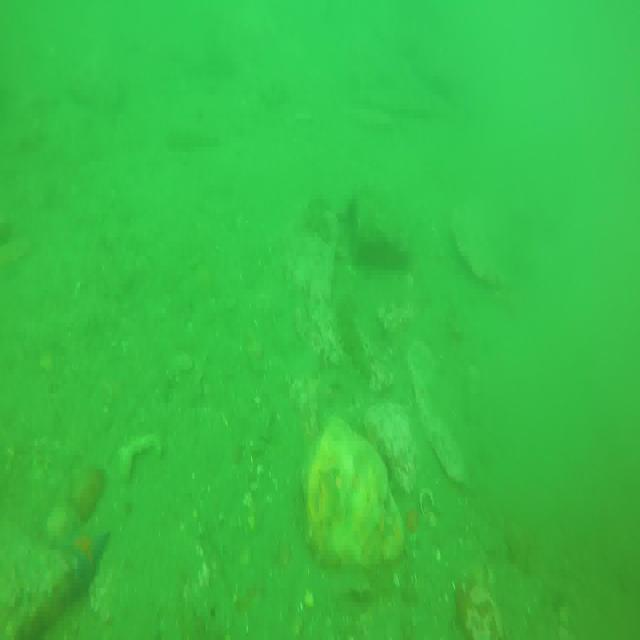starfish: (55, 526, 112, 588)
